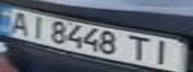4: (81, 27, 103, 52), (63, 24, 84, 48)
8: (45, 18, 69, 45), (100, 28, 121, 56)
A: (3, 9, 33, 36)
I: (148, 37, 184, 66), (24, 12, 51, 39)
T: (124, 33, 157, 62)
